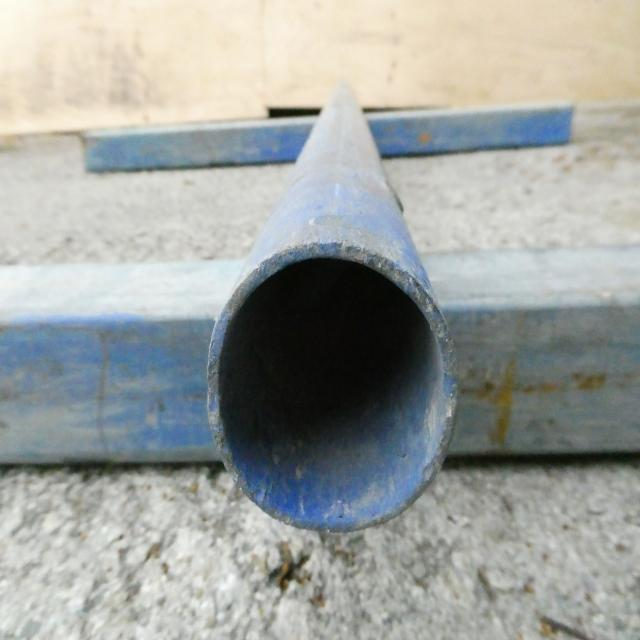pipe: (206, 251, 456, 535)
